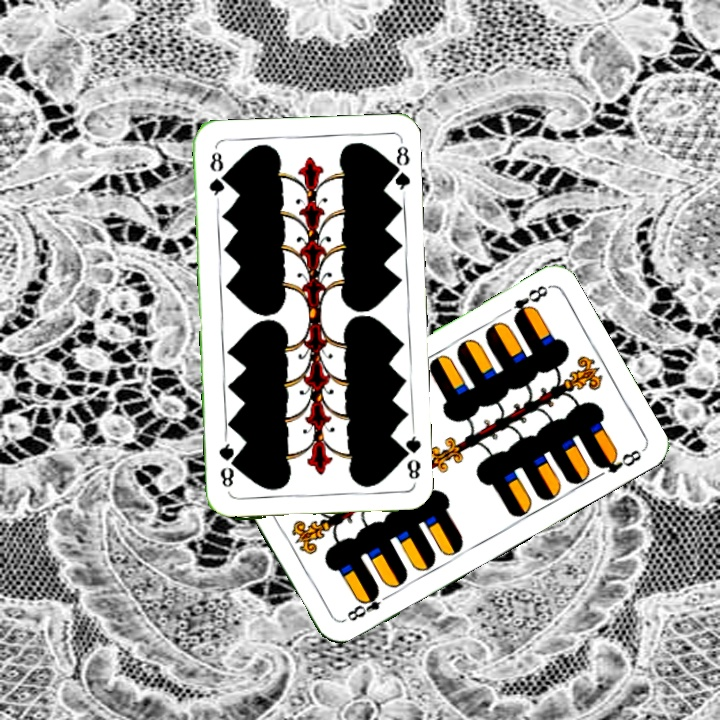E8: (339, 585, 394, 624), (509, 281, 552, 323)
G8: (396, 428, 423, 482), (205, 148, 228, 204)
